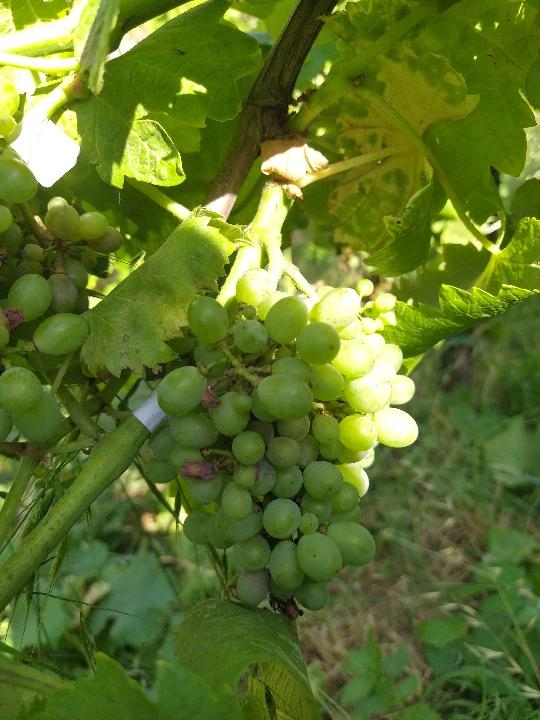grape: (155, 267, 422, 612)
